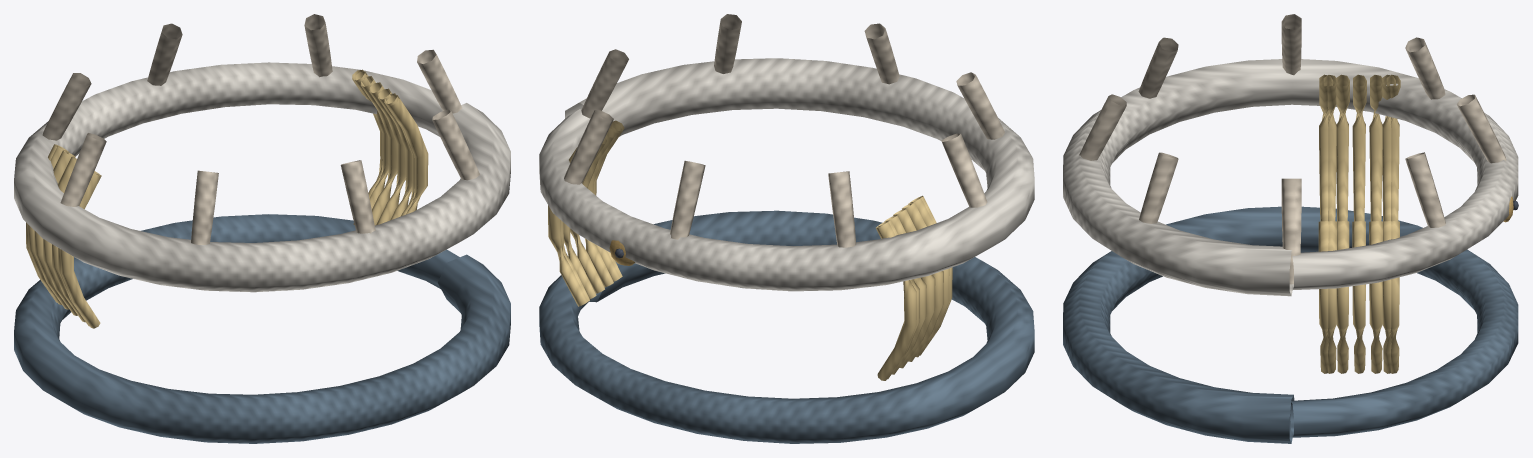
File: outfit_cuff.glb
3 views of the same model, side by side, from view 1: azimuth 30°, elevation 25°; view 2: azimuth 150°, elevation 25°; view 3: azimuth 270°, elevation 25° (orthographic). The views are drawn at different scales.
Visible parts, largest first — view 1: outfit_cuff; view 2: outfit_cuff; view 3: outfit_cuff.
Part boxes in pixels (<box>): outfit_cuff: <box>14,14,510,443</box>; outfit_cuff: <box>539,14,1034,443</box>; outfit_cuff: <box>1063,14,1518,443</box>.
Bounding box in the file's own units: 0.8783 × 0.492 × 0.8114.
6 materials, 6 textured.
